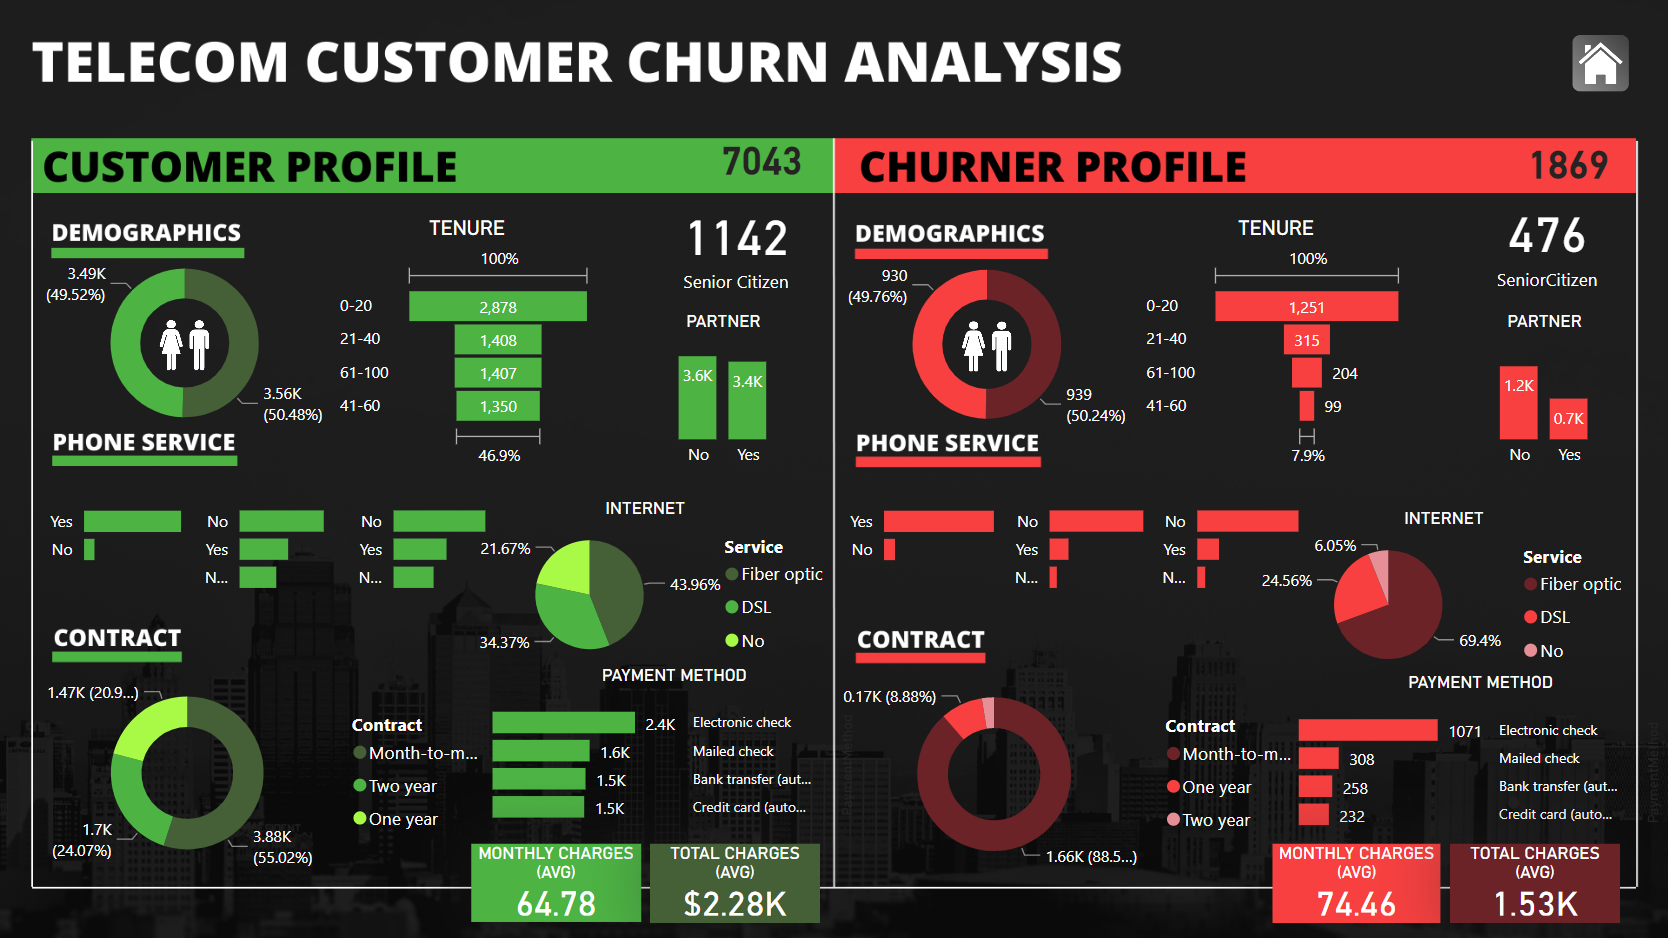

The dashboard page shown, as its layout file describes it:
{"tool":"powerbi","page":{"name":"CHURN DASHBOARD","canvas":[1280,720],"ordinal":1},"visuals":[{"type":"donutChart","fields":{"Y":["CountNonNull(01 Churn-Dataset.gender)"],"Category":["01 Churn-Dataset.gender"]},"box":[27.1,180,230,165.7],"z":0},{"type":"donutChart","fields":{"Category":["01 Churn-Dataset.gender"],"Y":["CountNonNull(01 Churn-Dataset.gender)"]},"box":[641.4,181.4,231.4,165.7],"z":1000},{"type":"barChart","title":"PHONESERVICE","fields":{"Category":["FULL DATASET.PhoneService"],"Y":["CountNonNull(FULL DATASET.PhoneService)"]},"box":[31.4,360,131.4,95.7],"z":2000},{"type":"barChart","title":"PHONESERVICE","fields":{"Y":["CountNonNull(01 Churn-Dataset.PhoneService)"],"Category":["01 Churn-Dataset.PhoneService"]},"box":[645.7,360,137.1,95.7],"z":3000},{"type":"barChart","title":"PHONESERVICE","fields":{"Category":["FULL DATASET.OnlineSecurity"],"Y":["CountNonNull(FULL DATASET.OnlineSecurity)"]},"box":[140,370,122.9,95.7],"z":4000},{"type":"barChart","title":"PHONESERVICE","fields":{"Category":["FULL DATASET.OnlineSecurity"],"Y":["CountNonNull(FULL DATASET.OnlineSecurity)"]},"box":[255.7,370,131.4,95.7],"z":5000},{"type":"barChart","title":"PHONESERVICE","fields":{"Category":["01 Churn-Dataset.OnlineSecurity"],"Y":["CountNonNull(01 Churn-Dataset.OnlineSecurity)"]},"box":[761.4,370,122.9,95.7],"z":6000},{"type":"barChart","title":"PHONESERVICE","fields":{"Category":["01 Churn-Dataset.TechSupport"],"Y":["CountNonNull(01 Churn-Dataset.TechSupport)"]},"box":[872.9,370,131.4,95.7],"z":7000},{"type":"donutChart","fields":{"Y":["CountNonNull(FULL DATASET.Contract)"],"Category":["FULL DATASET.Contract"]},"box":[12.9,510,371.4,165.7],"z":8000},{"type":"donutChart","fields":{"Y":["CountNonNull(01 Churn-Dataset.Contract)"],"Category":["01 Churn-Dataset.Contract"]},"box":[625.7,511.4,385.7,165.7],"z":9000},{"type":"card","fields":{"Values":["CountNonNull(FULL DATASET.Churn)"]},"box":[518.6,65.7,131.4,111.4],"z":10000},{"type":"card","fields":{"Values":["CountNonNull(01 Churn-Dataset.Churn)"]},"box":[1137.1,68.6,131.4,111.4],"z":11000},{"type":"funnel","title":"TENURE","fields":{"Category":["FULL DATASET.Bins Tenure"],"Y":["CountNonNull(FULL DATASET.Bins Tenure)"]},"box":[255.7,165.7,204.3,197.1],"z":12000},{"type":"funnel","title":"TENURE","fields":{"Category":["01 Churn-Dataset.bins tenure"],"Y":["CountNonNull(01 Churn-Dataset.bins tenure)"]},"box":[874.3,165.7,208.6,197.1],"z":13000},{"type":"card","title":"Senior Citizen","fields":{"Values":["CountNonNull(FULL DATASET.SeniorCitizen)"]},"box":[488.6,130,151.4,114.3],"z":14000},{"type":"card","title":"Senior Citizen","fields":{"Values":["Sum(01 Churn-Dataset.SeniorCitizen)"]},"box":[1111.4,128.6,151.4,114.3],"z":15000},{"type":"columnChart","title":"PARTNER","fields":{"Category":["FULL DATASET.Partner"],"Y":["CountNonNull(FULL DATASET.Partner)"]},"box":[481.4,238.6,147.1,128.6],"z":16000},{"type":"columnChart","title":"PARTNER","fields":{"Y":["CountNonNull(01 Churn-Dataset.Partner)"],"Category":["01 Churn-Dataset.Partner"]},"box":[1111.4,238.6,147.1,128.6],"z":17000},{"type":"pieChart","title":"INTERNET","fields":{"Y":["CountNonNull(FULL DATASET.InternetService)"],"Category":["FULL DATASET.InternetService"]},"box":[344.3,382.9,301.4,132.9],"z":18000},{"type":"pieChart","title":"INTERNET","fields":{"Y":["CountNonNull(01 Churn-Dataset.InternetService)"],"Category":["01 Churn-Dataset.InternetService"]},"box":[957.1,390,301.4,132.9],"z":19000},{"type":"clusteredBarChart","title":"PAYMENT METHOD","fields":{"Category":["FULL DATASET.PaymentMethod"],"Y":["CountNonNull(FULL DATASET.PaymentMethod)"]},"box":[372.9,510,288.6,131.4],"z":20000},{"type":"clusteredBarChart","title":"PAYMENT METHOD","fields":{"Category":["01 Churn-Dataset.PaymentMethod"],"Y":["CountNonNull(01 Churn-Dataset.PaymentMethod)"]},"box":[991.4,515.7,288.6,131.4],"z":21000},{"type":"card","title":"MONTHLY CHARGES (AVG)","fields":{"Values":["Avg(FULL DATASET.MonthlyCharges)"]},"box":[361.4,647.1,130,60],"z":22000},{"type":"card","title":"MONTHLY CHARGES (AVG)","fields":{"Values":["Avg(01 Churn-Dataset.MonthlyCharges)"]},"box":[976.5,646.9,129.1,60.4],"z":23000},{"type":"card","title":"TOTAL CHARGES (AVG)","fields":{"Values":["Avg(FULL DATASET.TotalCharges)"]},"box":[498.5,646.9,130.5,60.4],"z":24000},{"type":"card","title":"TOTAL CHARGES (AVG)","fields":{"Values":["Avg(01 Churn-Dataset.TotalCharges)"]},"box":[1112.4,646.9,130.5,60.4],"z":25000},{"type":"image","box":[104.4,240.3,72.8,48.1],"z":26000},{"type":"image","box":[719.7,241.7,72.8,48.1],"z":27000},{"type":"image","box":[1187,21.6,81.3,53.1],"z":27001}]}

Visuals, with their boxes in screenshot pixels (x1, y1, x2, y2), scaled from the page's 1280x720 canvas onto the 1668x938 screenshot:
donutChart - CountNonNull(01 Churn-Dataset.gender) x 01 Churn-Dataset.gender: [35, 234, 335, 450]
donutChart - 01 Churn-Dataset.gender x CountNonNull(01 Churn-Dataset.gender): [836, 236, 1137, 452]
"PHONESERVICE" barChart: [41, 469, 212, 594]
"PHONESERVICE" barChart: [841, 469, 1020, 594]
"PHONESERVICE" barChart: [182, 482, 343, 607]
"PHONESERVICE" barChart: [333, 482, 504, 607]
"PHONESERVICE" barChart: [992, 482, 1152, 607]
"PHONESERVICE" barChart: [1137, 482, 1309, 607]
donutChart - CountNonNull(FULL DATASET.Contract) x FULL DATASET.Contract: [17, 664, 501, 880]
donutChart - CountNonNull(01 Churn-Dataset.Contract) x 01 Churn-Dataset.Contract: [815, 666, 1318, 882]
card - CountNonNull(FULL DATASET.Churn): [676, 86, 847, 231]
card - CountNonNull(01 Churn-Dataset.Churn): [1482, 89, 1653, 234]
"TENURE" funnel: [333, 216, 599, 473]
"TENURE" funnel: [1139, 216, 1411, 473]
"Senior Citizen" card: [637, 169, 834, 318]
"Senior Citizen" card: [1448, 168, 1646, 316]
"PARTNER" columnChart: [627, 311, 819, 478]
"PARTNER" columnChart: [1448, 311, 1640, 478]
"INTERNET" pieChart: [449, 499, 841, 672]
"INTERNET" pieChart: [1247, 508, 1640, 681]
"PAYMENT METHOD" clusteredBarChart: [486, 664, 862, 836]
"PAYMENT METHOD" clusteredBarChart: [1292, 672, 1667, 843]
"MONTHLY CHARGES (AVG)" card: [471, 843, 640, 921]
"MONTHLY CHARGES (AVG)" card: [1273, 843, 1441, 921]
"TOTAL CHARGES (AVG)" card: [650, 843, 820, 921]
"TOTAL CHARGES (AVG)" card: [1450, 843, 1620, 921]
image: [136, 313, 231, 376]
image: [938, 315, 1033, 378]
image: [1547, 28, 1653, 97]
